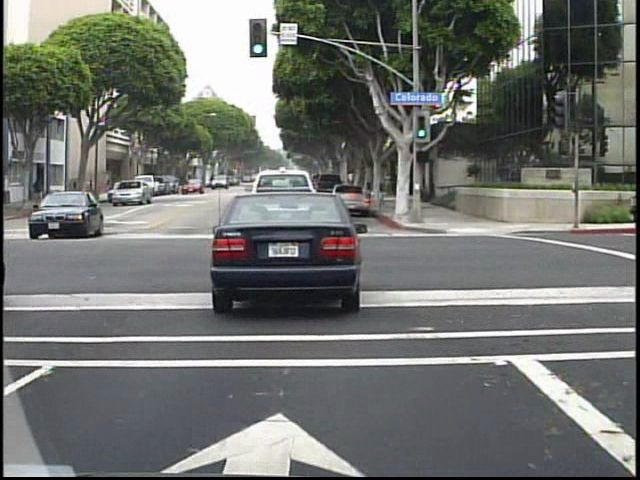person: (33, 176, 46, 208)
